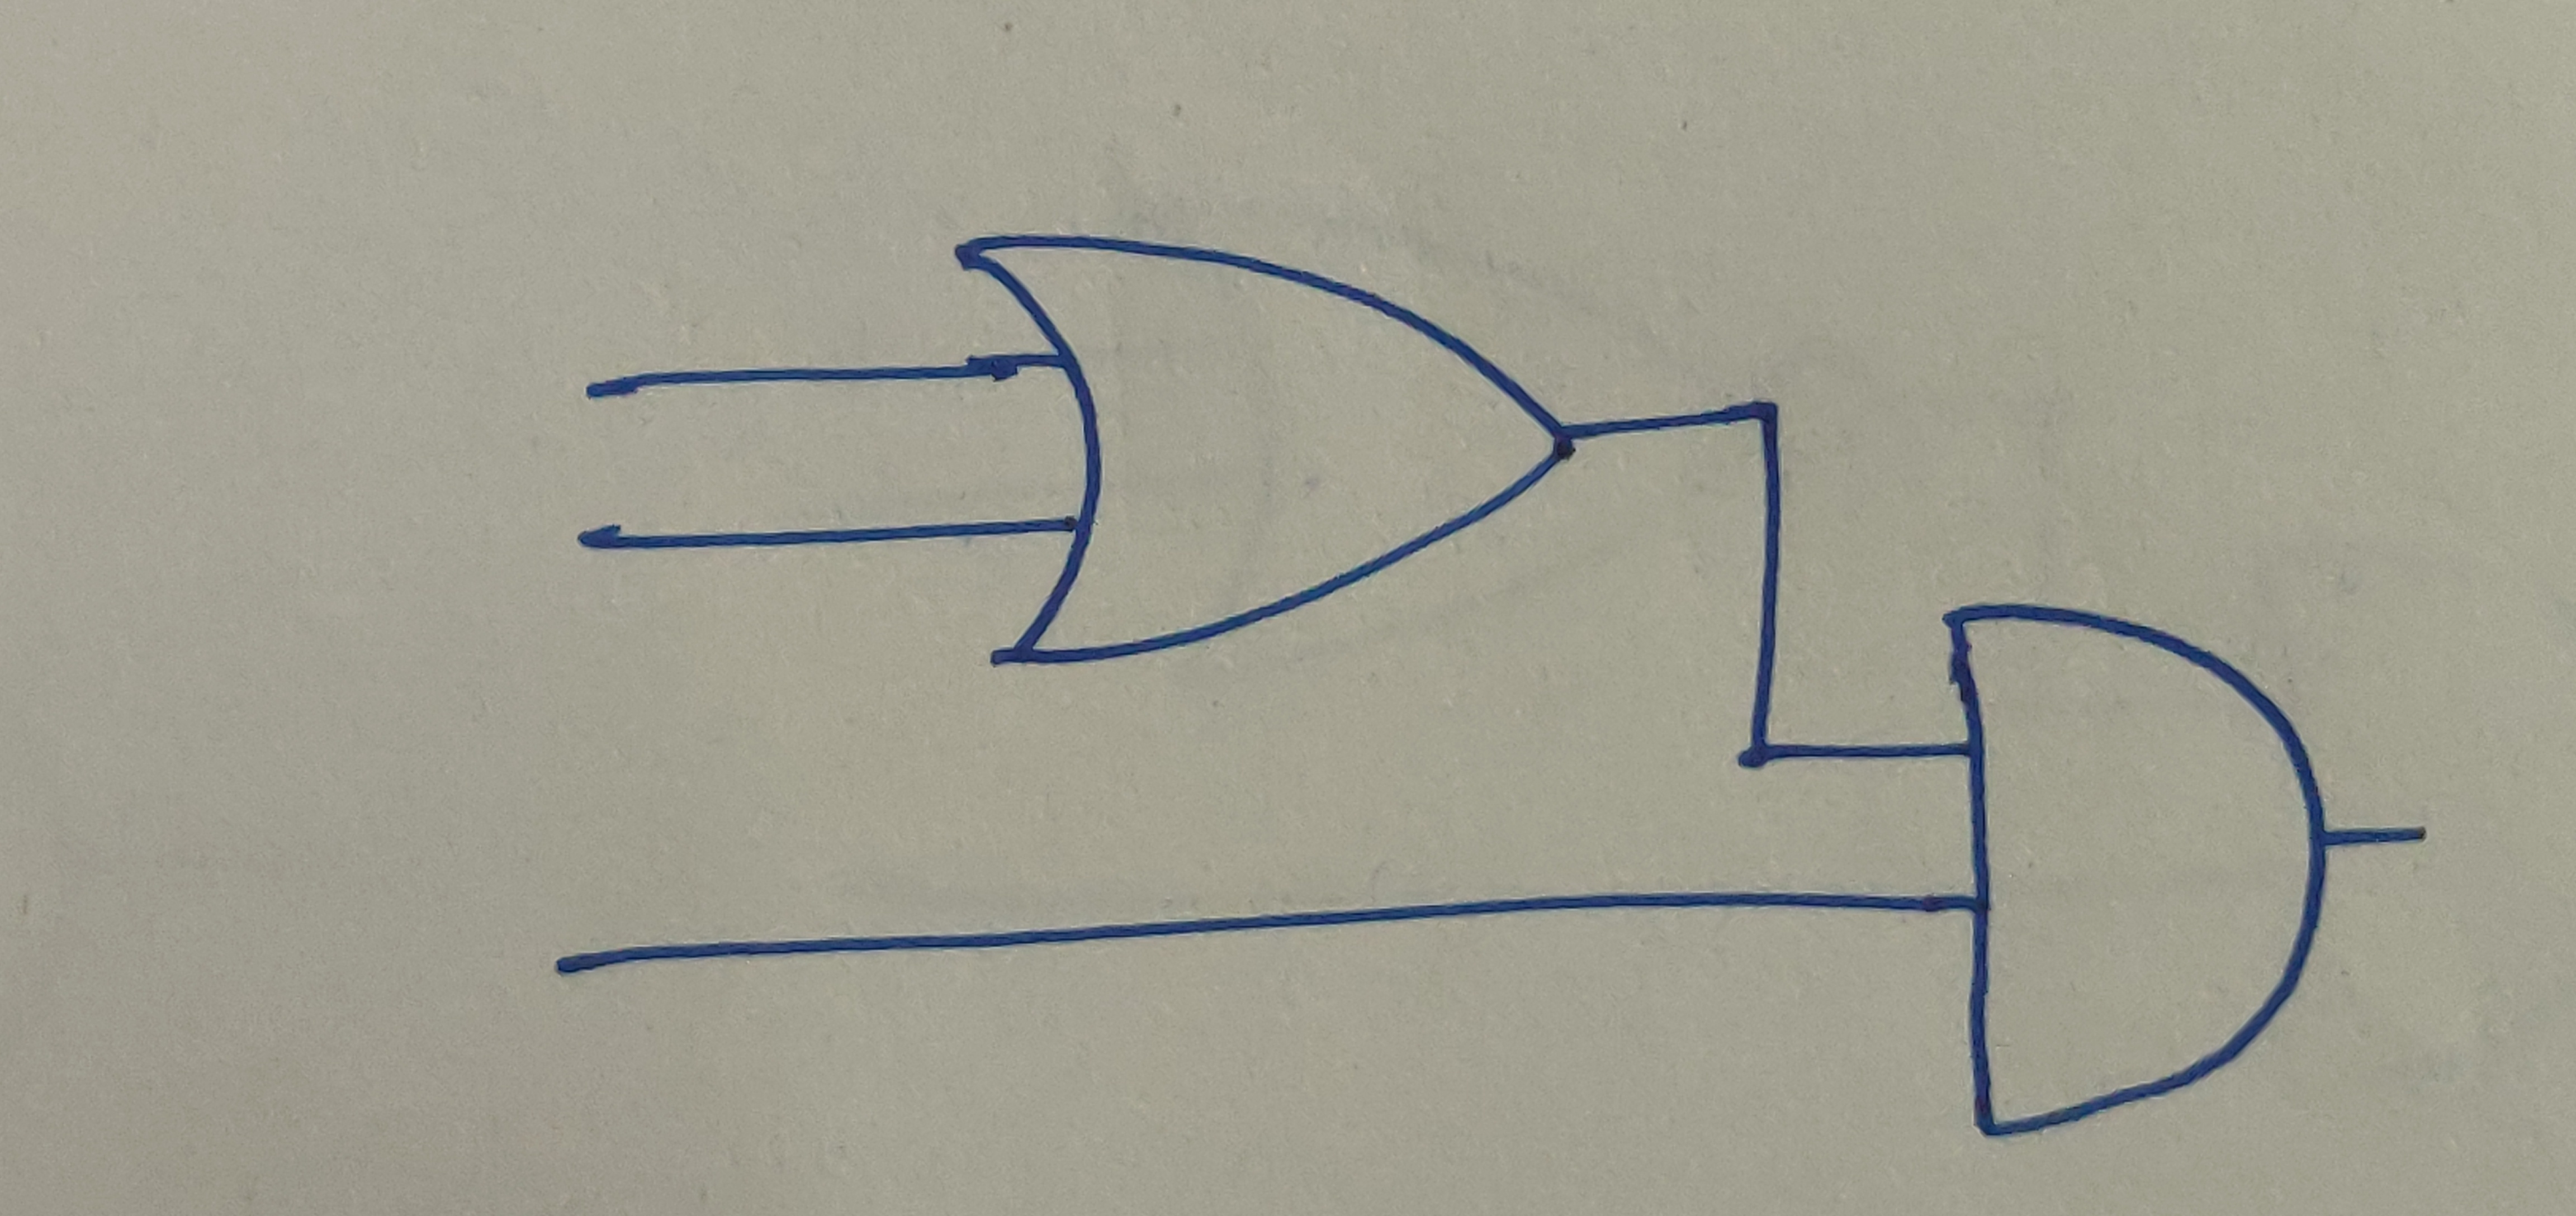and: (1948, 598, 2330, 1140)
or: (956, 230, 1577, 670)
